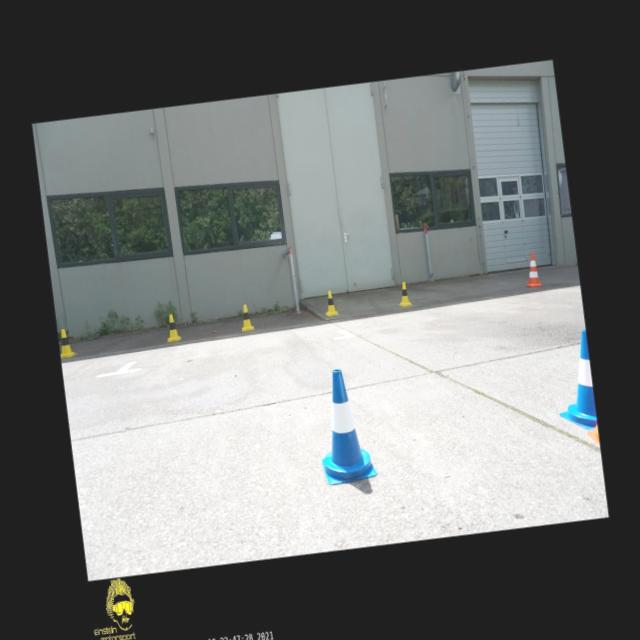blue_cone: (310, 365, 376, 485), (550, 328, 598, 432)
large_orange_cone: (521, 252, 543, 288)
yellow_cone: (58, 327, 76, 358), (164, 313, 182, 342), (238, 303, 255, 331), (395, 280, 413, 306), (322, 288, 338, 316)
